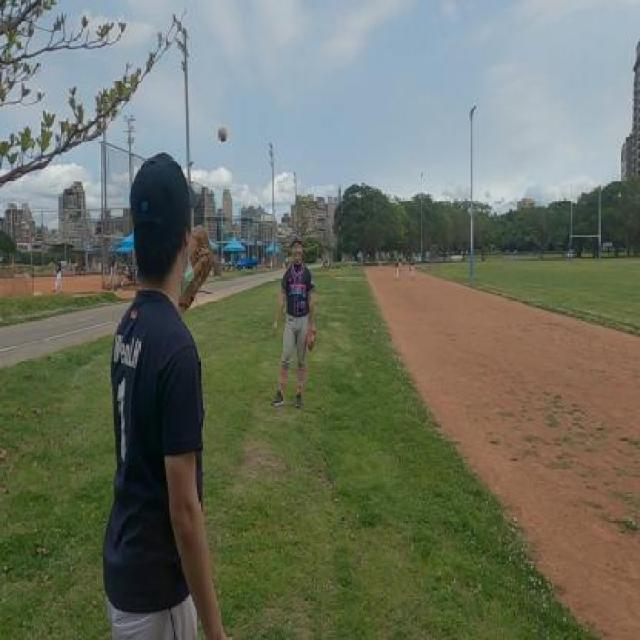baseball: (217, 125, 228, 143)
